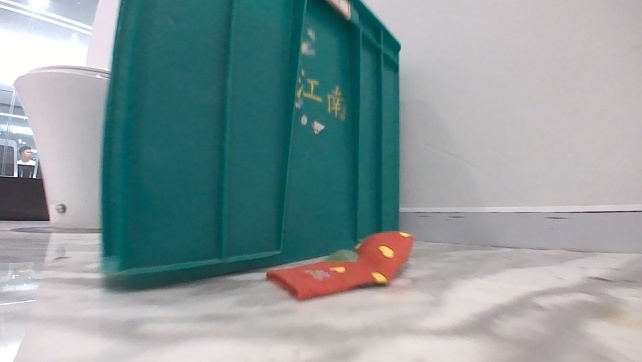socks: (262, 225, 416, 304)
toilet: (10, 59, 111, 234)
